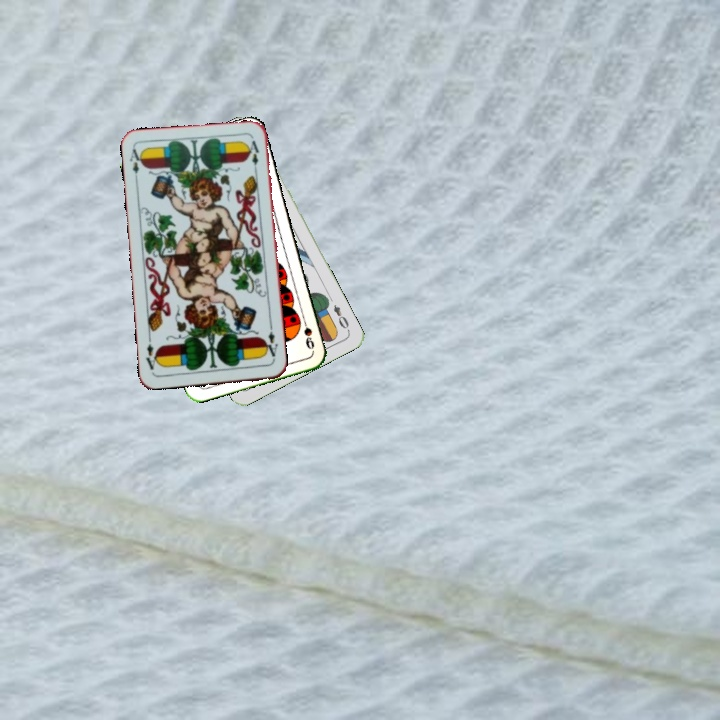EA: (260, 323, 281, 363), (125, 145, 146, 185)
EO: (329, 301, 352, 334)
S9: (298, 313, 317, 352)
